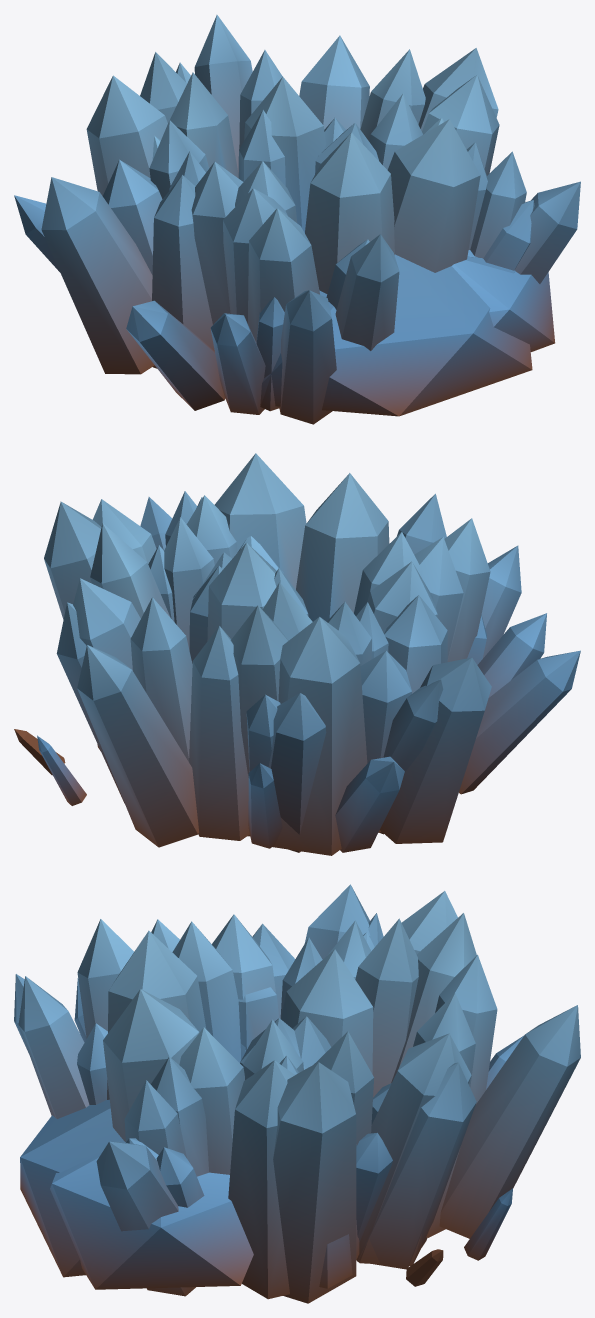
Rendered from crystal_blue.glb.
3 views of the same model, one above another, from view 1: azimuth 30°, elevation 25°; view 2: azimuth 150°, elevation 25°; view 3: azimuth 270°, elevation 25° (orthographic). The views are drawn at different scales.
Visible parts, largest first — view 1: crystal_blue; view 2: crystal_blue; view 3: crystal_blue.
Boxes of the visible parts, bbox=[...] form: crystal_blue: bbox=[14, 15, 580, 424]; crystal_blue: bbox=[14, 453, 580, 855]; crystal_blue: bbox=[14, 884, 580, 1303].
Size of the model in its own units: 1.18 by 0.669 by 1.2.
